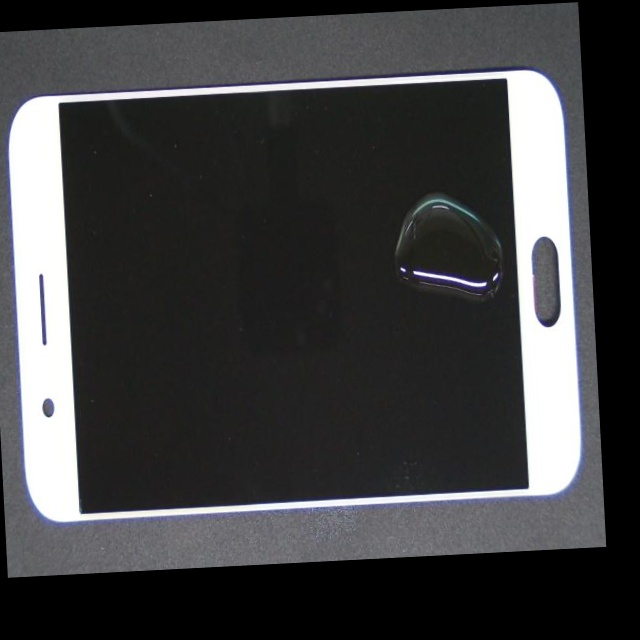oil: (276, 144, 595, 347)
